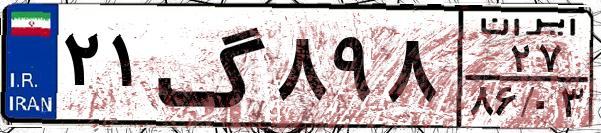0: (535, 70, 560, 125)
1: (110, 28, 156, 98)
2: (57, 26, 110, 100), (508, 27, 537, 80)
3: (560, 70, 590, 125)
6: (495, 70, 520, 125)
7: (537, 27, 568, 80)
8: (270, 28, 330, 110), (385, 28, 445, 110), (470, 70, 495, 125)
9: (330, 28, 385, 110)
گ: (156, 12, 270, 120)
